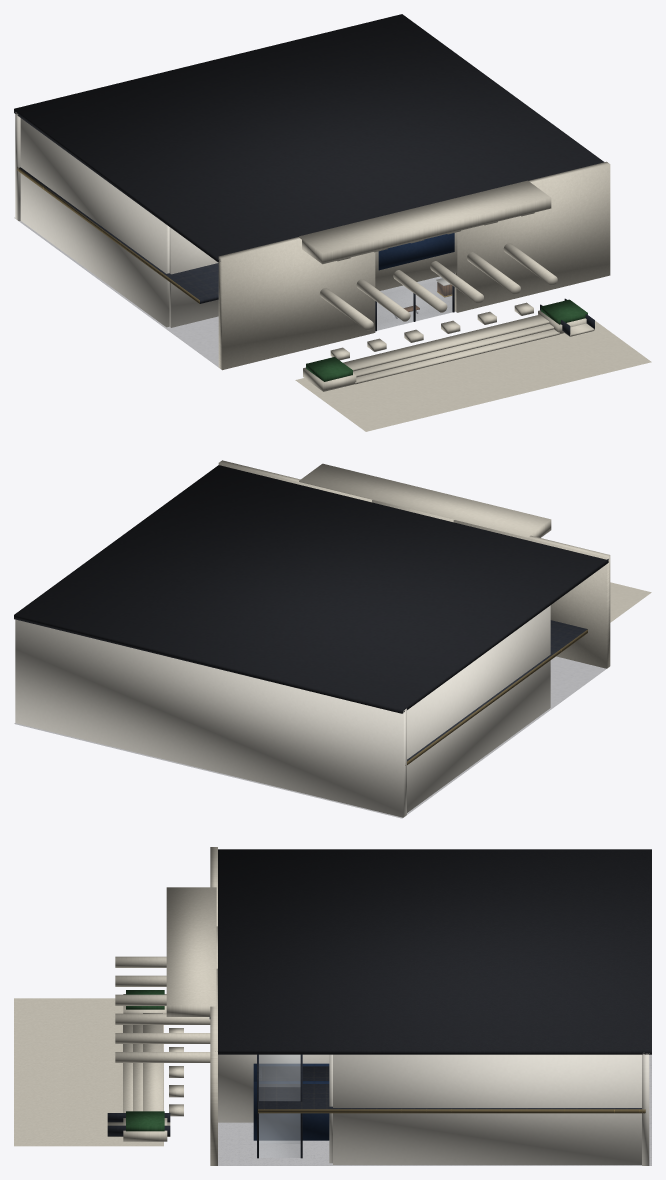
Rendered from vit_vellore_virtual_museum.glb.
3 views of the same model, one above another, from view 1: azimuth 30°, elevation 25°; view 2: azimuth 150°, elevation 25°; view 3: azimuth 270°, elevation 25° (orthographic). The views are drawn at different scales.
Parts seen in each view (by area): view 1: Museum_TwoFloor_Structure, Museum_Exterior; view 2: Museum_TwoFloor_Structure, Museum_Exterior; view 3: Museum_TwoFloor_Structure, Museum_Exterior, Grand_Staircase_And_Elevator.
Boxes of the visible parts, x1,y1,x2,y2 form: Museum_TwoFloor_Structure: (14, 14, 604, 367); Museum_Exterior: (218, 161, 651, 431); Museum_TwoFloor_Structure: (14, 465, 608, 818); Museum_Exterior: (218, 460, 651, 668); Museum_TwoFloor_Structure: (218, 849, 651, 1165); Museum_Exterior: (14, 847, 217, 1165); Grand_Staircase_And_Elevator: (253, 1054, 329, 1158).
Size of the model in its own units: 38 by 11.1 by 51.
44 materials, 41 textured.
